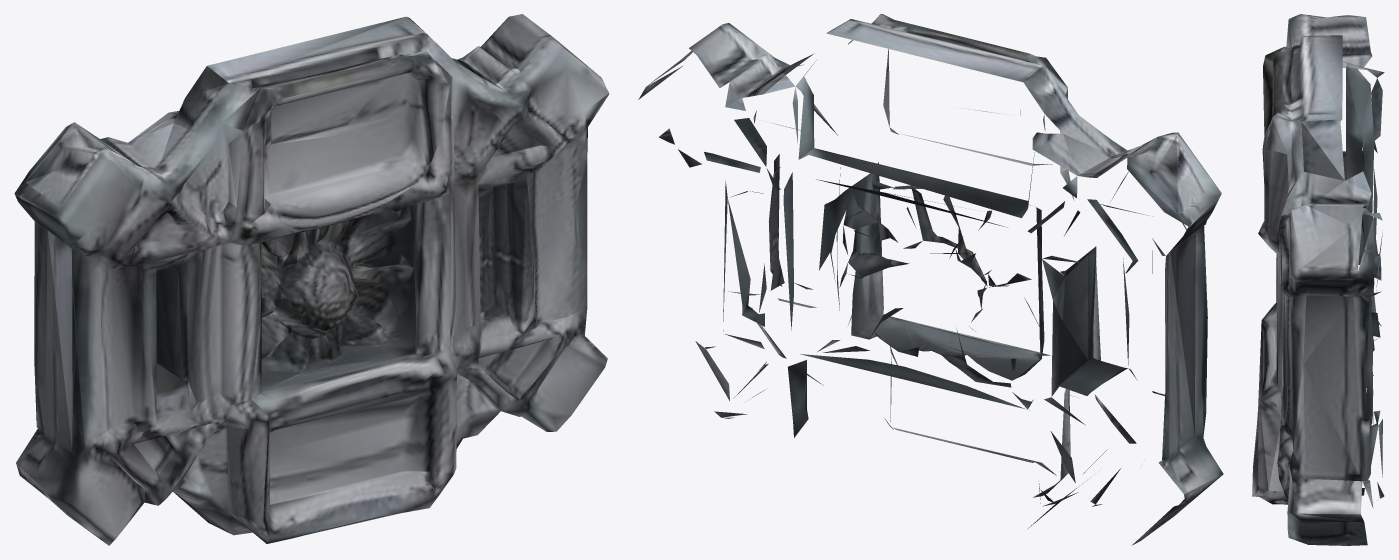
The model's file is hangar_wall_panel_a.glb.
3 renders of one model, left to right at view 1: azimuth 30°, elevation 25°; view 2: azimuth 150°, elevation 25°; view 3: azimuth 270°, elevation 25°, orthographic. The views are drawn at different scales.
Visible parts, largest first — view 1: hangar_wall_panel_a; view 2: hangar_wall_panel_a; view 3: hangar_wall_panel_a.
Part boxes in pixels (left/top/right/bottom): hangar_wall_panel_a: left=14, top=14, right=609, bottom=545; hangar_wall_panel_a: left=638, top=14, right=1223, bottom=545; hangar_wall_panel_a: left=1252, top=14, right=1384, bottom=545.
Size of the model in its own units: 0.1058 by 0.0831 by 0.0251.
1 material, 1 textured.
